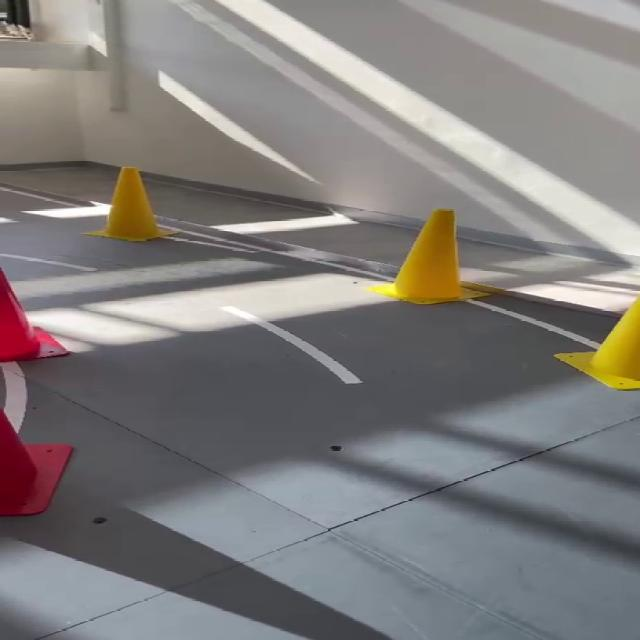Cone-red: (0, 406, 72, 516), (0, 268, 69, 362)
Cones-yellow: (367, 209, 468, 304), (553, 297, 639, 390), (87, 167, 177, 242)
